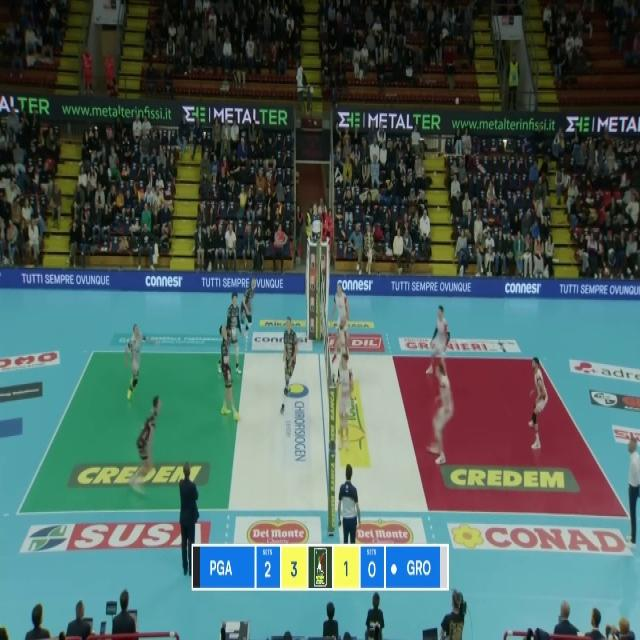volleyball court: (15, 346, 633, 518)
